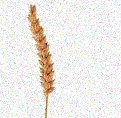wheat: (25, 2, 57, 107)
